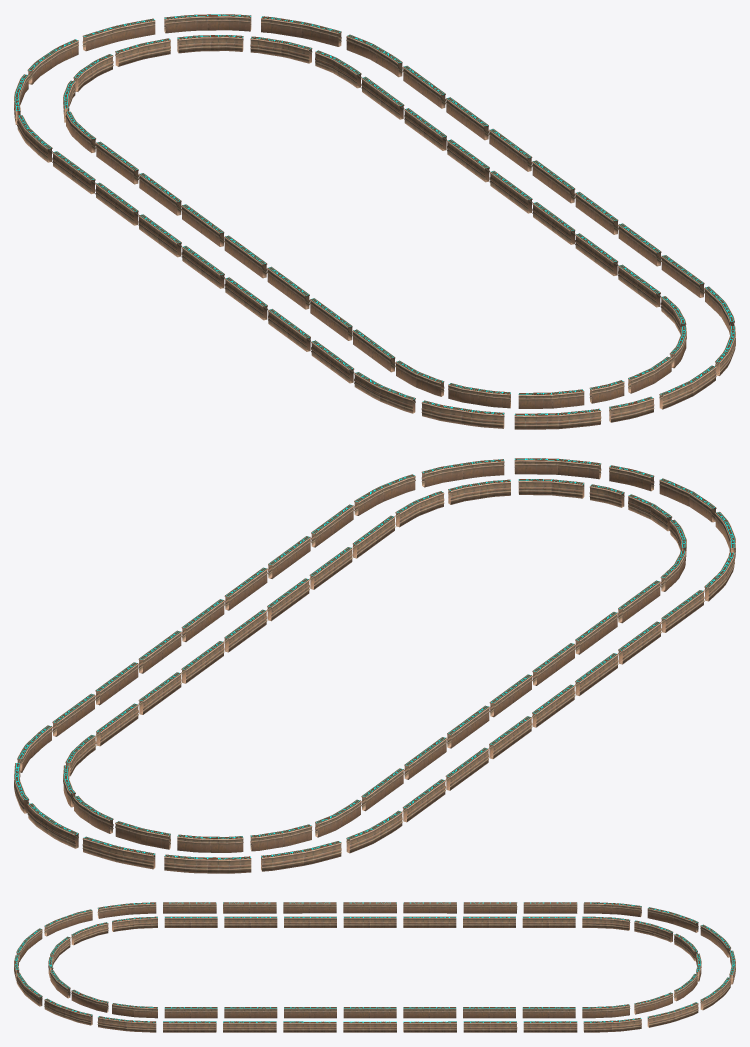
File: wall.fbx
3 renders of one model, top to bottom at view 1: azimuth 30°, elevation 25°; view 2: azimuth 150°, elevation 25°; view 3: azimuth 270°, elevation 25°, orthographic. The views are drawn at different scales.
Visible parts, largest first — view 1: wall; view 2: wall; view 3: wall.
Part boxes in pixels (x1,y1,x2,y2): wall: (14, 14, 735, 429); wall: (14, 458, 735, 873); wall: (14, 902, 735, 1032).
Size of the model in its own units: 12889 by 494 by 32518.
